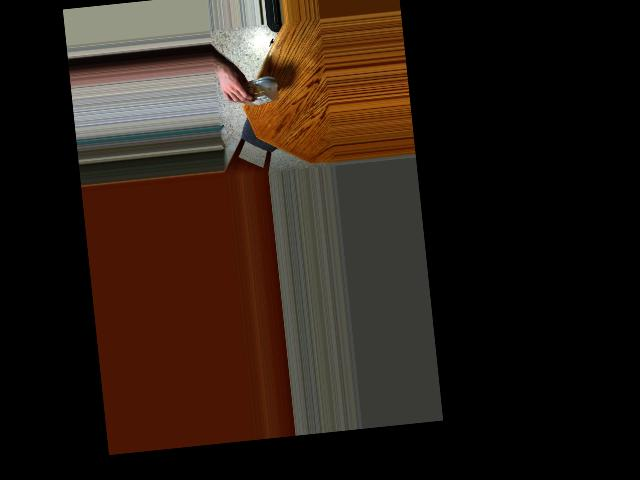cheese: (229, 72, 274, 110)
